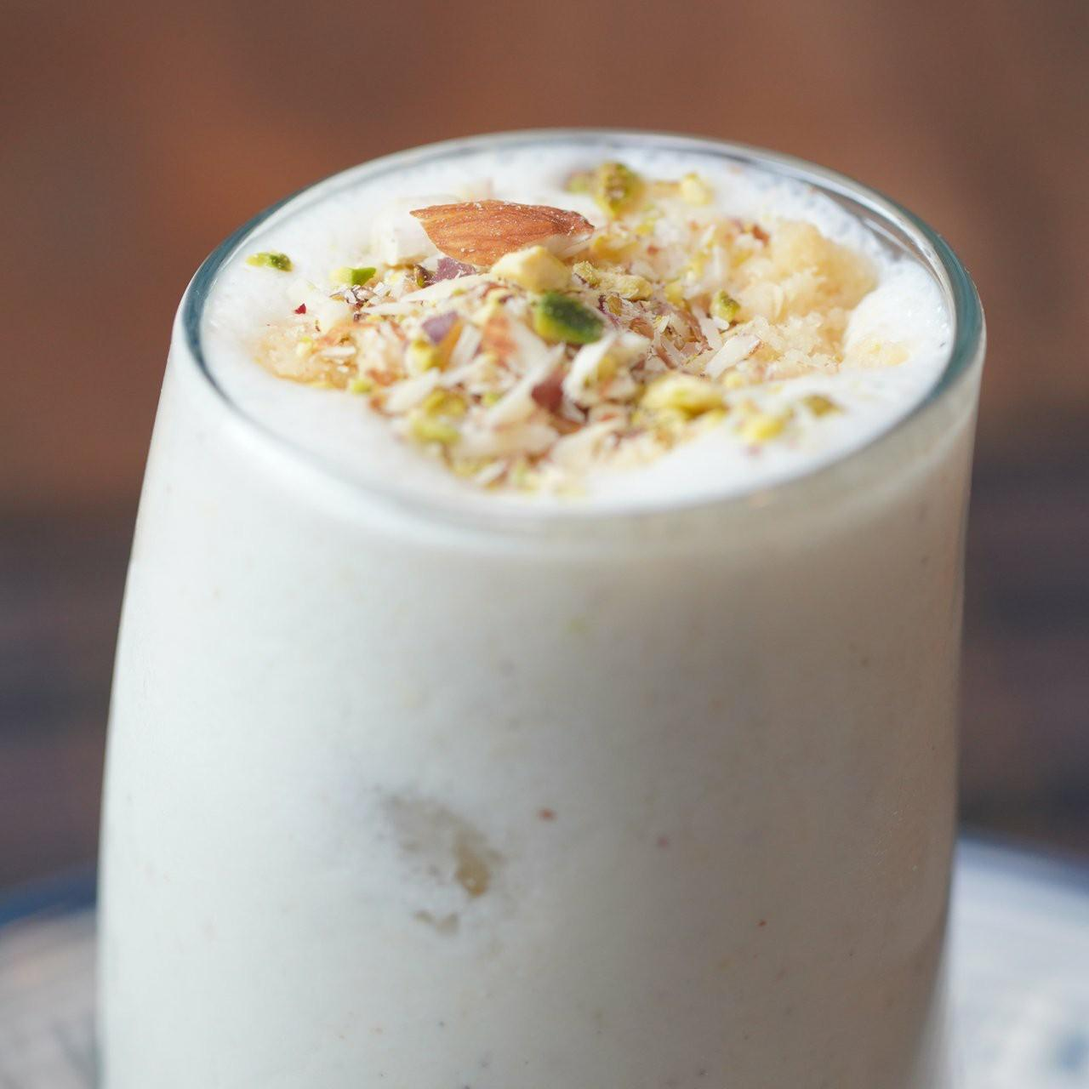Lassi: (91, 138, 977, 1083)
